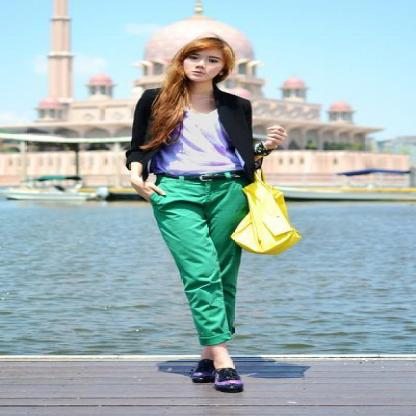bag: (231, 165, 298, 254)
jacket: (120, 75, 274, 170)
pants: (150, 173, 249, 345)
shirt: (157, 108, 243, 174)
shoe: (192, 359, 242, 393)
